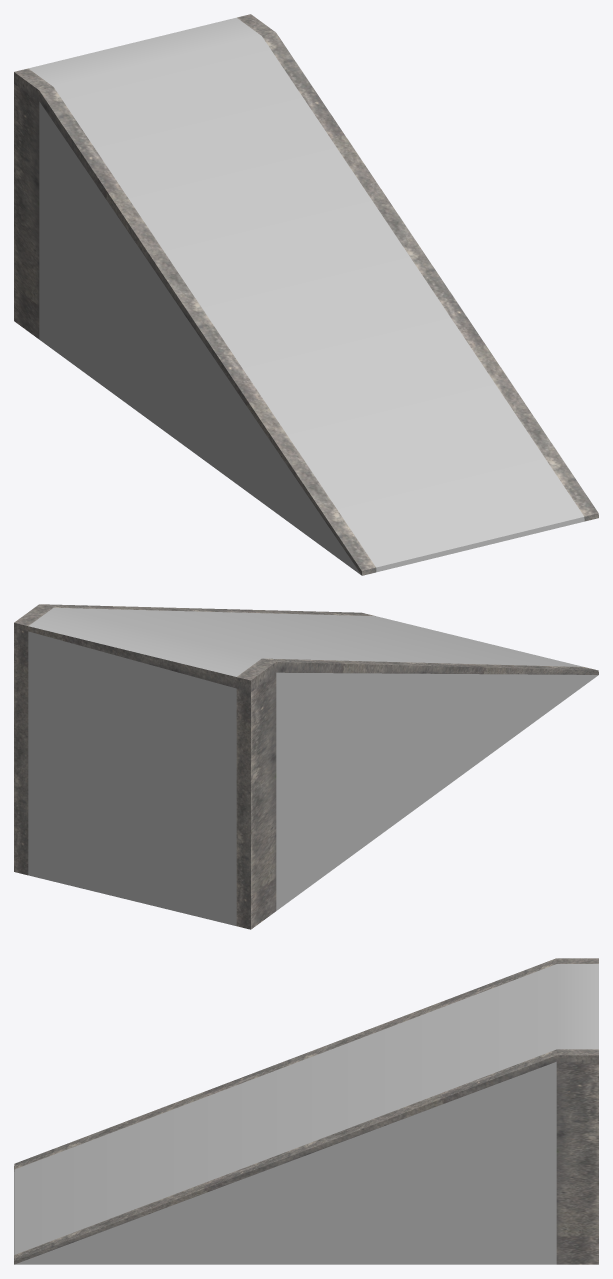
Rendered from JpHouseJ_StoneWall_slope02a.fbx.
The picture shows the model from 3 angles, top to bottom: view 1: azimuth 30°, elevation 25°; view 2: azimuth 150°, elevation 25°; view 3: azimuth 270°, elevation 25°; orthographic projection. The views are drawn at different scales.
Visible parts, largest first — view 1: JpHouseJ_StoneWall_slope02a; view 2: JpHouseJ_StoneWall_slope02a; view 3: JpHouseJ_StoneWall_slope02a.
Part boxes in pixels (bbox=[...]): JpHouseJ_StoneWall_slope02a: bbox=[14, 14, 598, 575]; JpHouseJ_StoneWall_slope02a: bbox=[14, 604, 598, 929]; JpHouseJ_StoneWall_slope02a: bbox=[14, 958, 598, 1264].
Bounding box in the file's own units: 3.83 × 3.85 × 9.75.
